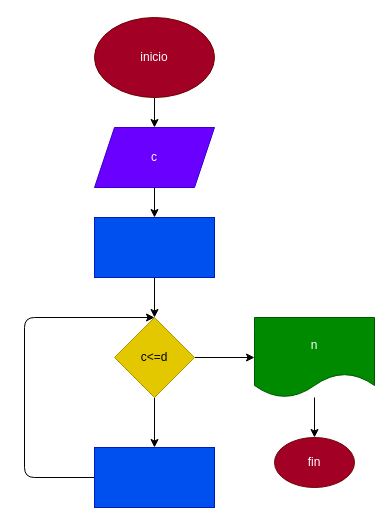
This 392x525 diagram has some shape labels left out. Each missing label, with the centre of its shape:
c=1.05*c n=n+1: (154,477)
n=o d=2*c: (154,247)
